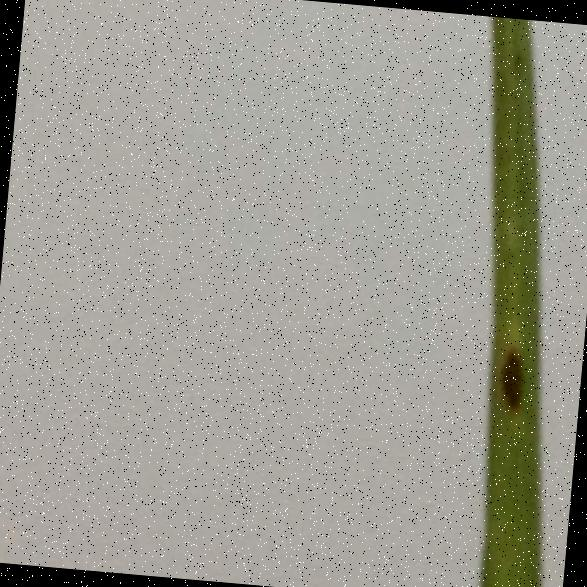Leaf_smut: (487, 324, 544, 419)
